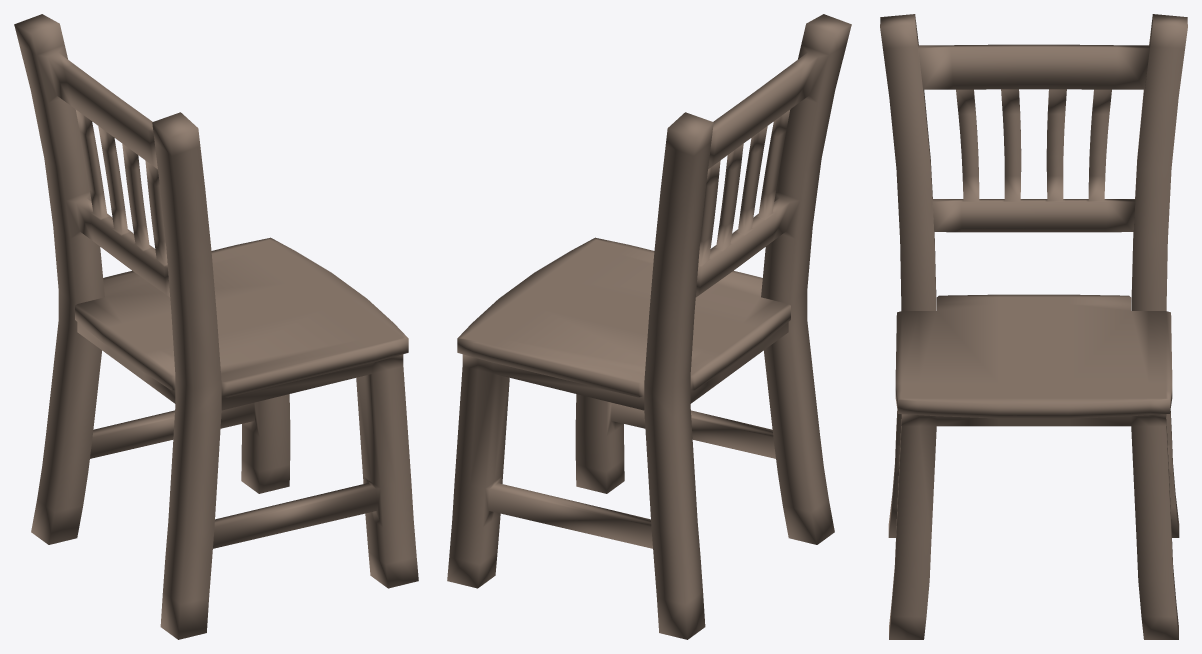
The model's file is SM_Chair.fbx.
The picture shows the model from 3 angles, left to right: view 1: azimuth 30°, elevation 25°; view 2: azimuth 150°, elevation 25°; view 3: azimuth 270°, elevation 25°; orthographic projection.
Visible parts, largest first — view 1: Chair; view 2: Chair; view 3: Chair.
Part boxes in pixels (<box>): Chair: <box>14,14,418,639</box>; Chair: <box>447,14,851,639</box>; Chair: <box>880,14,1187,639</box>.
Size of the model in its own units: 67.12 by 128 by 70.46.
